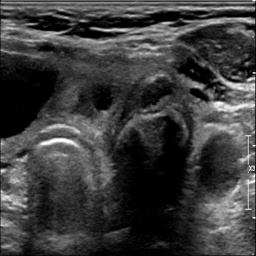mass: (112, 71, 193, 205)
